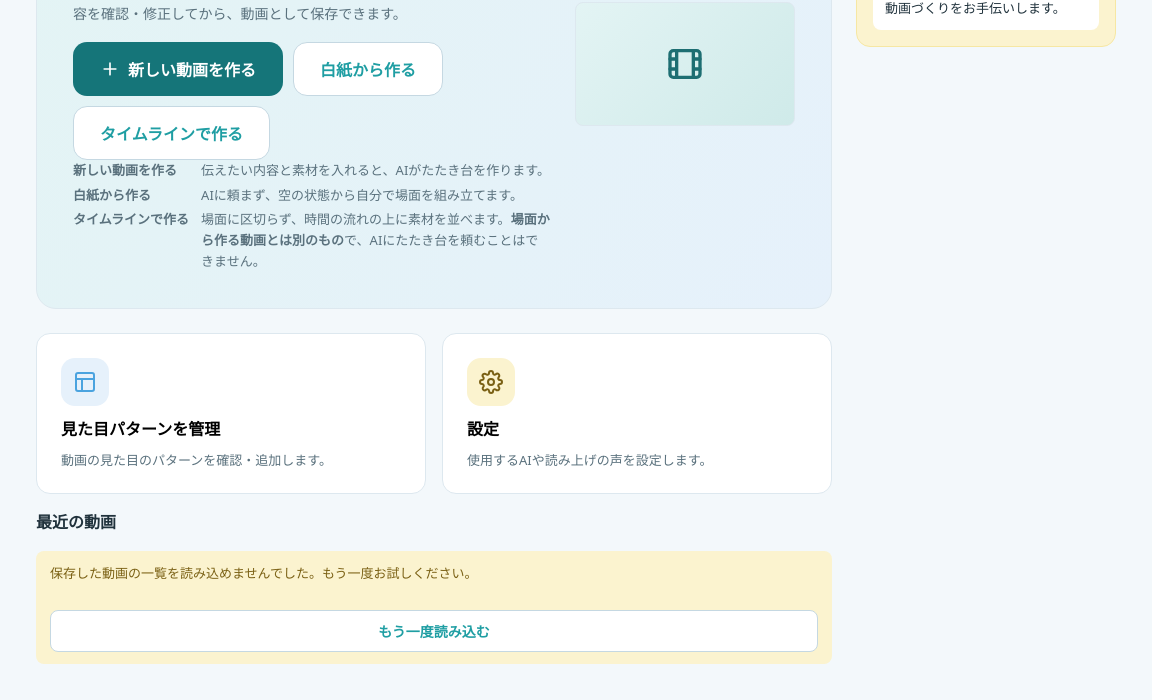
Test: HomeScreen 一覧取得の失敗表示と再試行（#547 P2-2） › 再試行が成功：失敗表示が消え、一覧が出る
The width and height of the screenshot is (1152, 700).
(page scrolled)
Click the button "もう一度読み込む" at (434, 631), box x1=50 y1=610 x2=818 y2=652
(page scrolled)
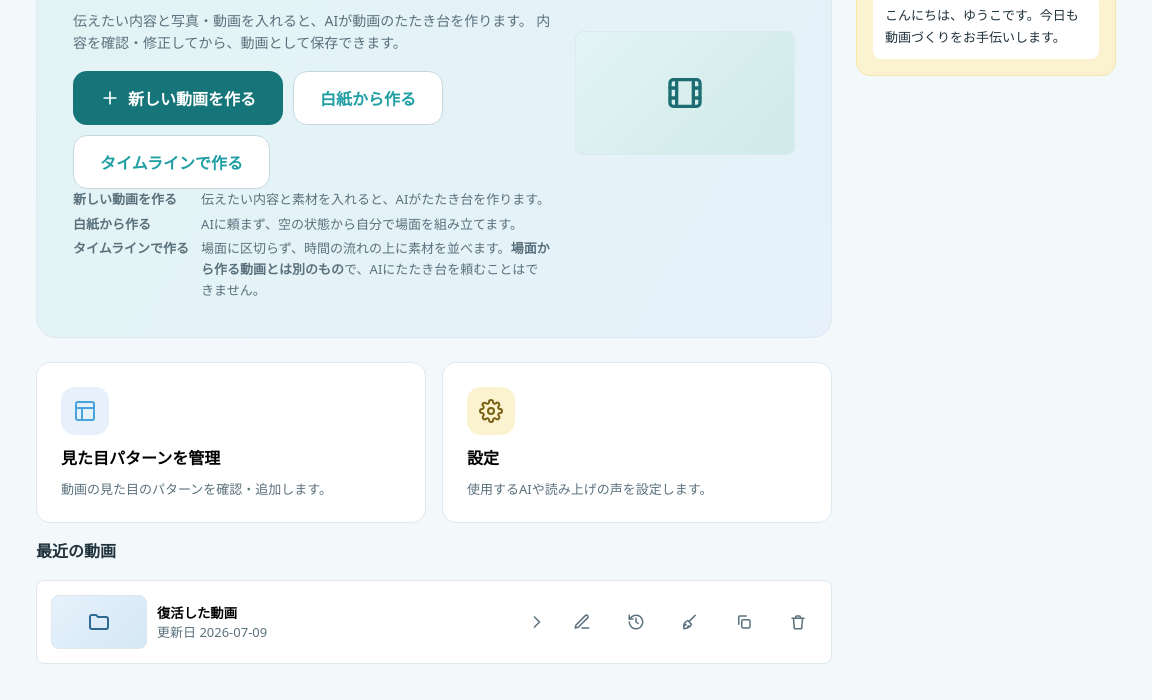
Result: the text "復活した動画" is shown at x1=157 y1=603 x2=237 y2=622
Result: the text "読み込めませんでした" is gone
